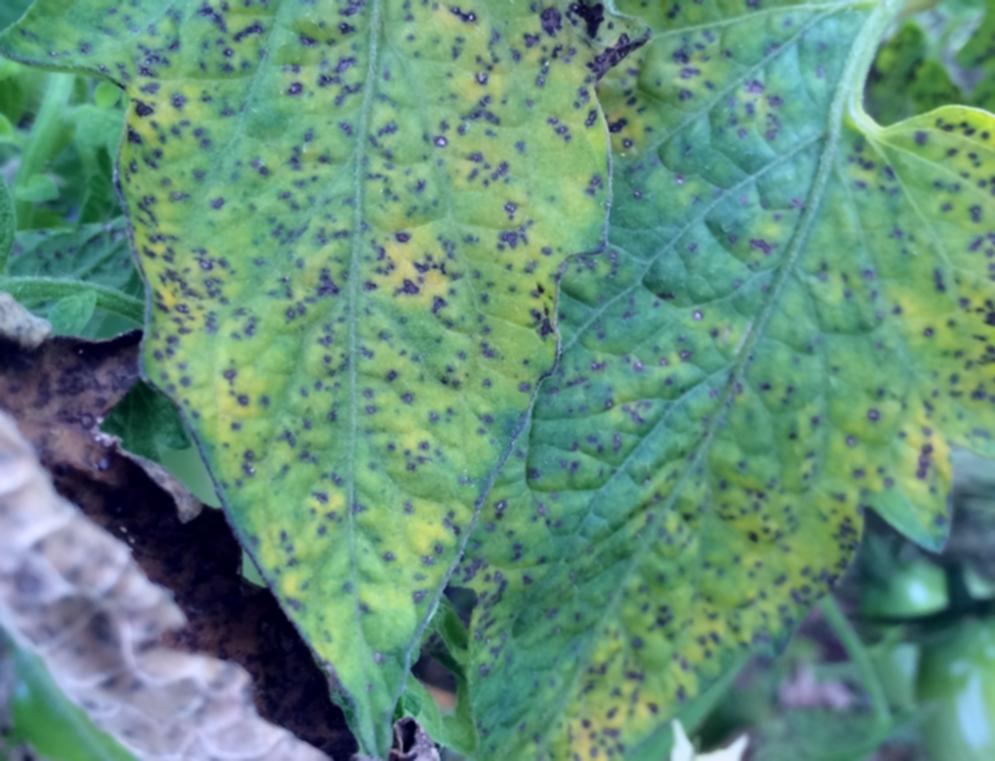Tomato Septoria leaf spot: (51, 0, 615, 761), (432, 0, 995, 761)
